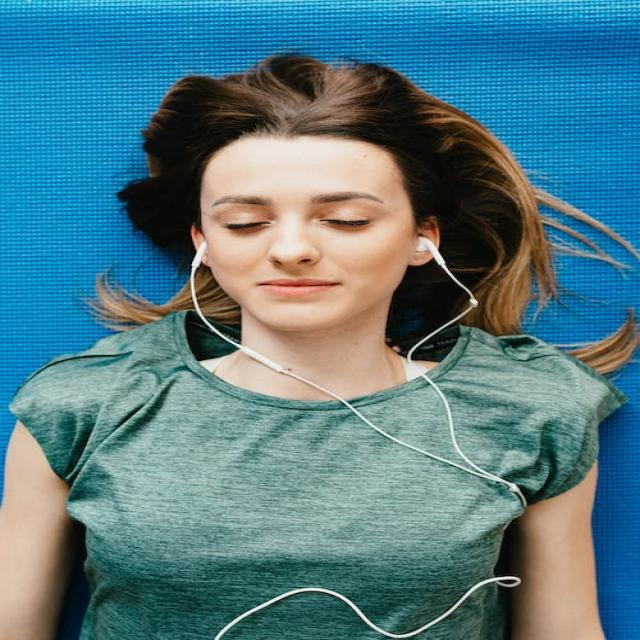Earphone: (191, 234, 527, 640)
